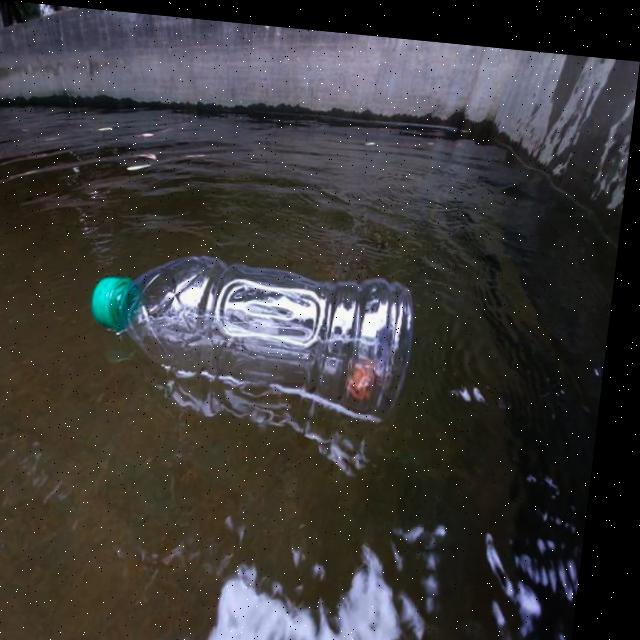waterbottle: (67, 229, 465, 435)
